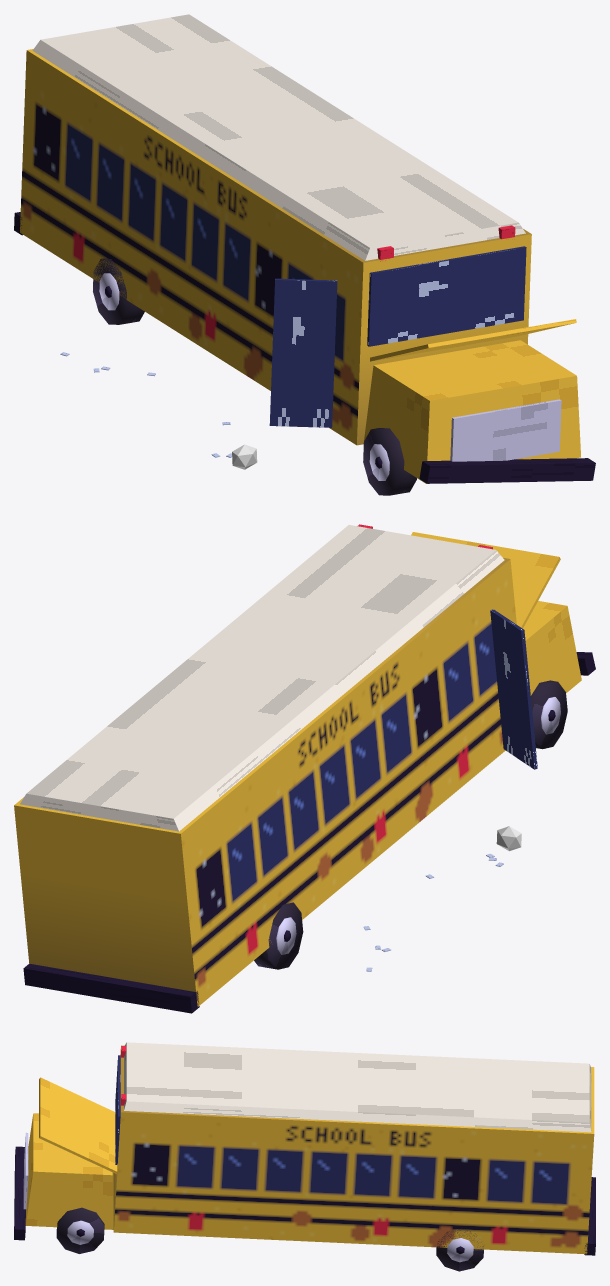
The model's file is School Bus Wreck.fbx.
3 renders of one model, top to bottom at view 1: azimuth 30°, elevation 25°; view 2: azimuth 150°, elevation 25°; view 3: azimuth 270°, elevation 25°, orthographic. The views are drawn at different scales.
Parts seen in each view (by area): view 1: School Bus Wreck hull, School Bus Wreck roof, School Bus Wreck hood, School Bus Wreck windshield, School Bus Wreck door.001, School Bus Wreck grille, School Bus Wreck bumper, School Bus Wreck wheel FL tire, School Bus Wreck wheel RL tire, School Bus Wreck hood lid.001; view 2: School Bus Wreck hull, School Bus Wreck roof, School Bus Wreck door.001, School Bus Wreck hood, School Bus Wreck rear bumper, School Bus Wreck hood lid.001, School Bus Wreck wheel FL tire, School Bus Wreck wheel RL tire; view 3: School Bus Wreck hull, School Bus Wreck roof, School Bus Wreck hood, School Bus Wreck hood lid.001, School Bus Wreck wheel FR tire, School Bus Wreck bumper, School Bus Wreck wheel RR tire, School Bus Wreck rear bumper, School Bus Wreck windshield, School Bus Wreck wheel RR hub, School Bus Wreck wheel FR hub, School Bus Wreck grille.
Boxes of the visible parts, x1,y1,x2,y2 form: School Bus Wreck hull: (20,49,531,445); School Bus Wreck roof: (32,14,525,260); School Bus Wreck hood: (363,340,580,483); School Bus Wreck windshield: (367,246,526,346); School Bus Wreck door.001: (269,278,337,427); School Bus Wreck grille: (450,399,561,461); School Bus Wreck bumper: (419,458,595,483); School Bus Wreck wheel FL tire: (363,428,416,495); School Bus Wreck wheel RL tire: (93,258,144,324); School Bus Wreck hood lid.001: (370,319,576,361); School Bus Wreck hull: (14,558,516,1006); School Bus Wreck roof: (20,525,504,831); School Bus Wreck door.001: (490,609,537,769); School Bus Wreck hood: (523,601,581,695); School Bus Wreck rear bumper: (23,963,199,1013); School Bus Wreck hood lid.001: (411,532,560,628); School Bus Wreck wheel FL tire: (531,680,567,749); School Bus Wreck wheel RL tire: (254,902,303,969); School Bus Wreck hull: (113,1045,594,1254); School Bus Wreck roof: (124,1042,591,1132); School Bus Wreck hood: (25,1113,113,1229); School Bus Wreck hood lid.001: (39,1077,117,1174); School Bus Wreck wheel FR tire: (56,1207,104,1253); School Bus Wreck bumper: (14,1146,25,1240); School Bus Wreck wheel RR tire: (436,1228,483,1271); School Bus Wreck rear bumper: (584,1177,595,1255); School Bus Wreck windshield: (115,1055,120,1164); School Bus Wreck wheel RR hub: (447,1238,473,1262); School Bus Wreck wheel FR hub: (67,1220,93,1244); School Bus Wreck grille: (23,1132,28,1209).
Size of the model in its own units: 3.7 by 3.61 by 10.56.
